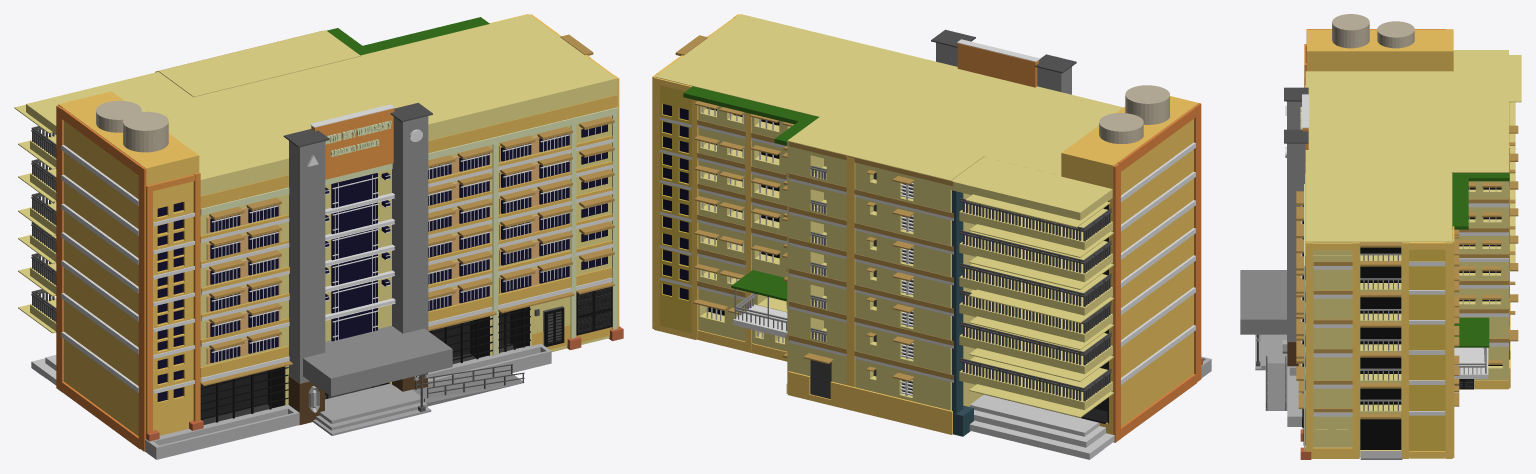
File: og_academic.glb
3 renders of one model, left to right at view 1: azimuth 30°, elevation 25°; view 2: azimuth 150°, elevation 25°; view 3: azimuth 270°, elevation 25°, orthographic. The views are drawn at different scales.
Visible parts, largest first — view 1: Cube.707; view 2: Cube.707; view 3: Cube.707.
Part boxes in pixels (<box>): Cube.707: <box>14,14,623,459</box>; Cube.707: <box>652,14,1211,459</box>; Cube.707: <box>1240,14,1521,459</box>.
Bounding box in the file's own units: 6.36 × 3.84 × 3.84.
